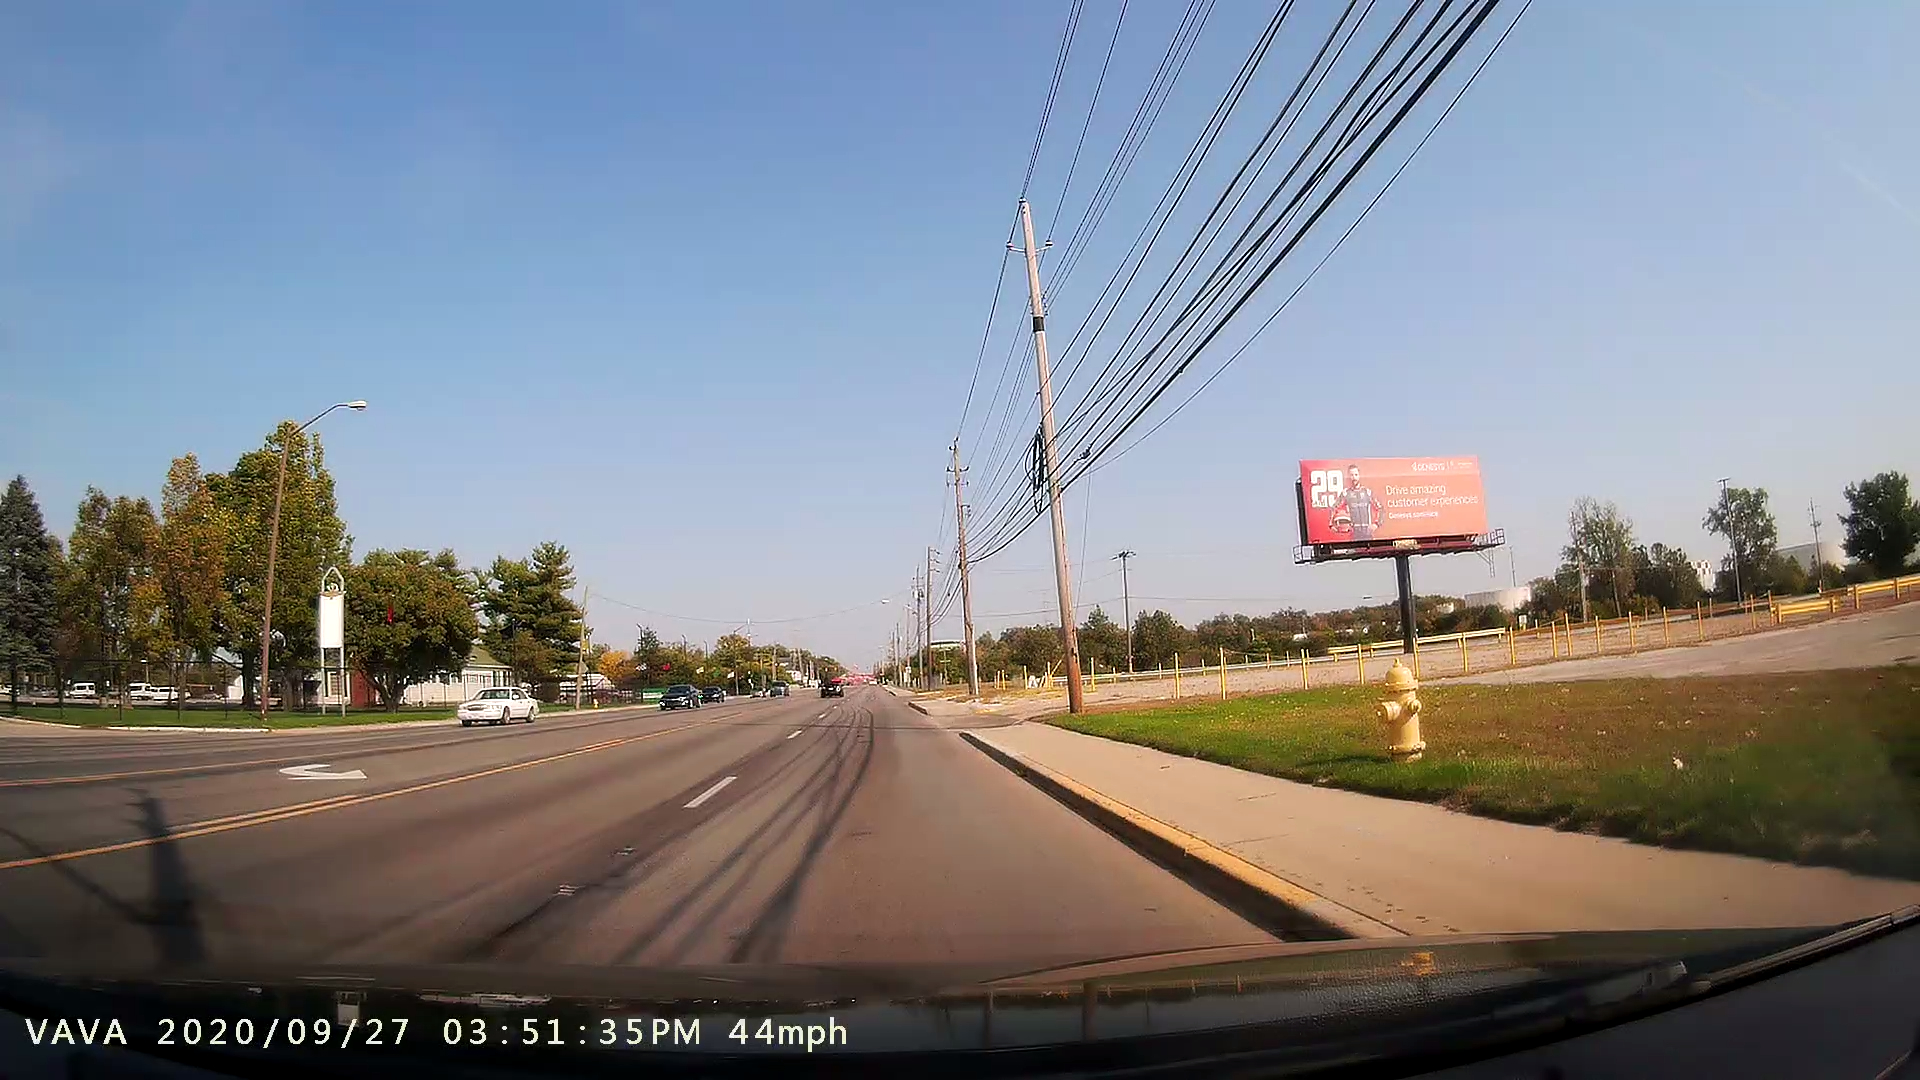fire_hydrant: (1371, 650, 1444, 774)
